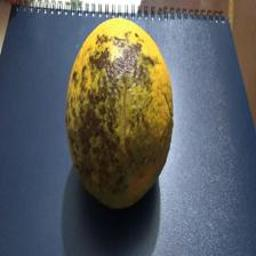Orange Semirotten: (62, 19, 182, 204)
